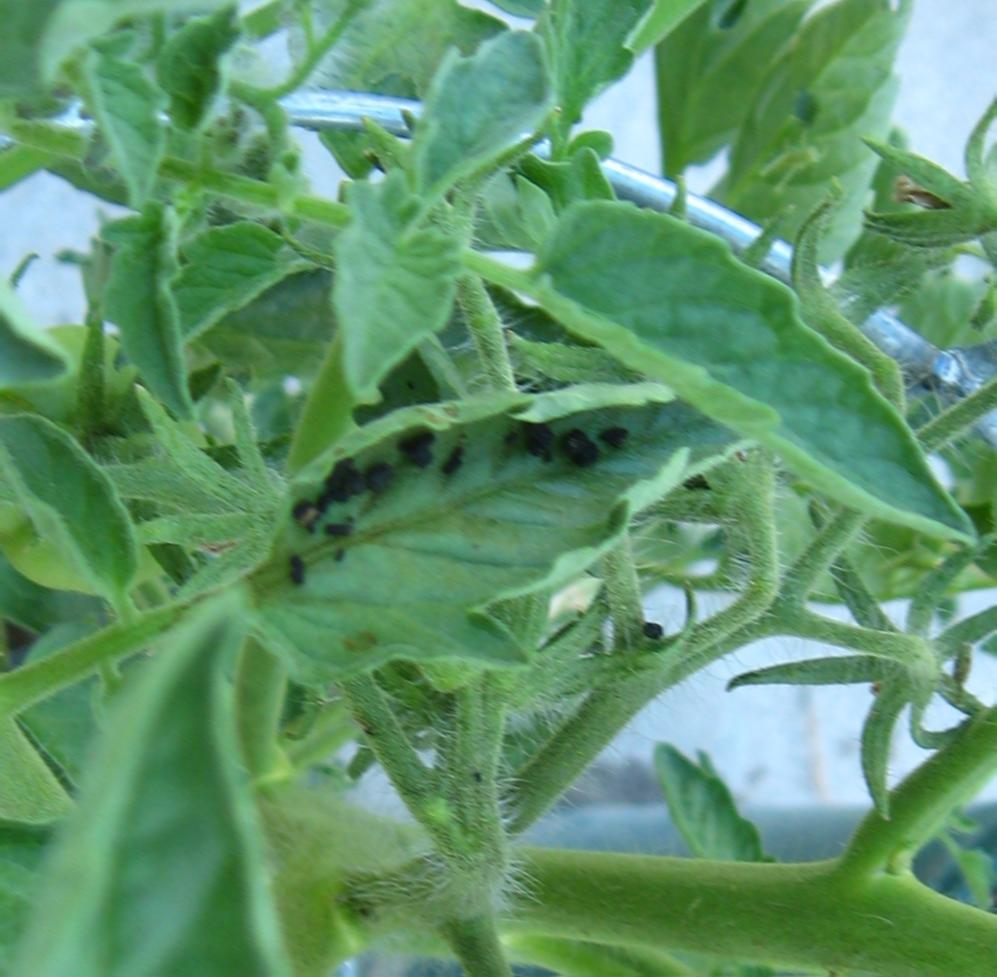Tomato leaf: (506, 213, 985, 546)
